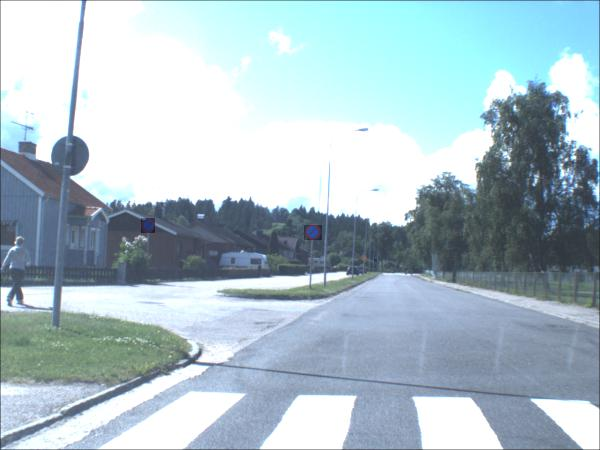NO_PARKING: (304, 226, 323, 242), (141, 220, 156, 236)
PEDESTRIAN_CROSSING: (374, 260, 378, 264)
WARNING: (361, 256, 368, 262)
